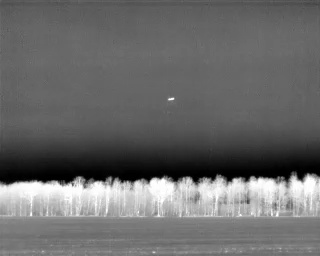DRONE: (165, 94, 177, 105)
